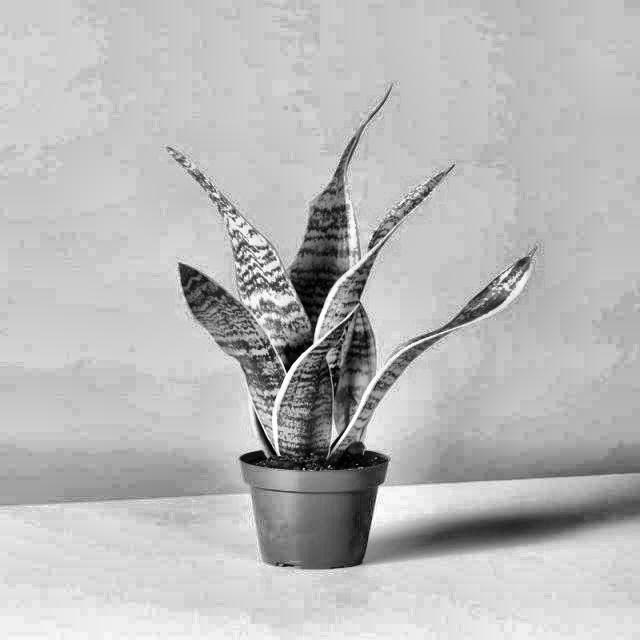plants: (140, 74, 548, 583)
